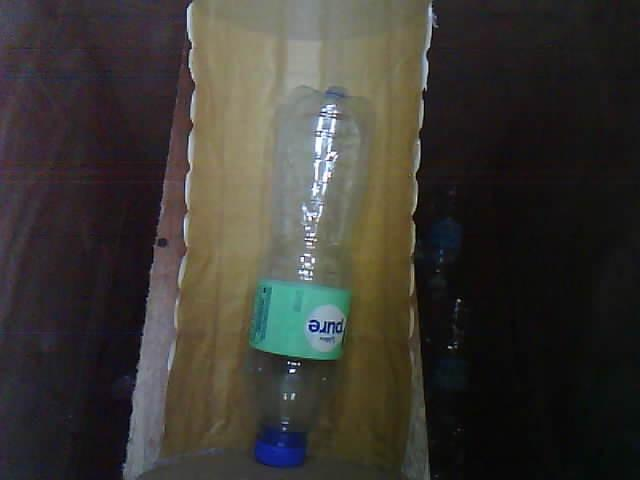small_bottle: (226, 72, 387, 480)
